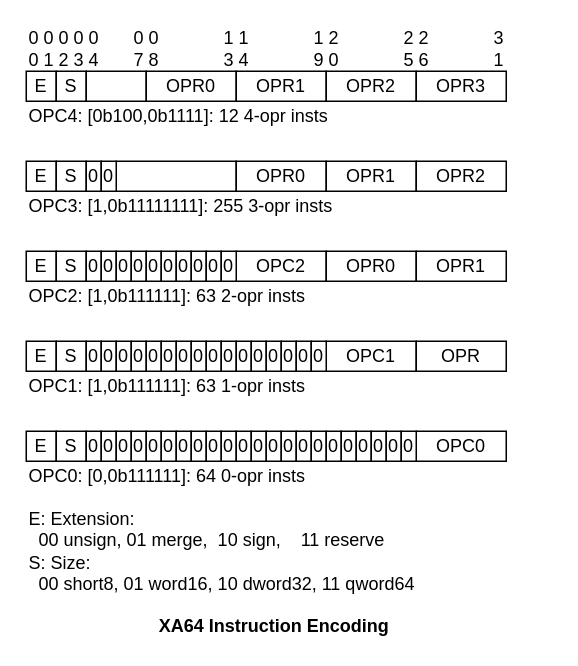
This 578x666 diagram has some shape labels left out. The box of each missing label's shape, as (x1, y1, x2, y2) in pixels:
OPC3: (115, 160, 236, 191)
OPC4: (85, 70, 146, 101)
